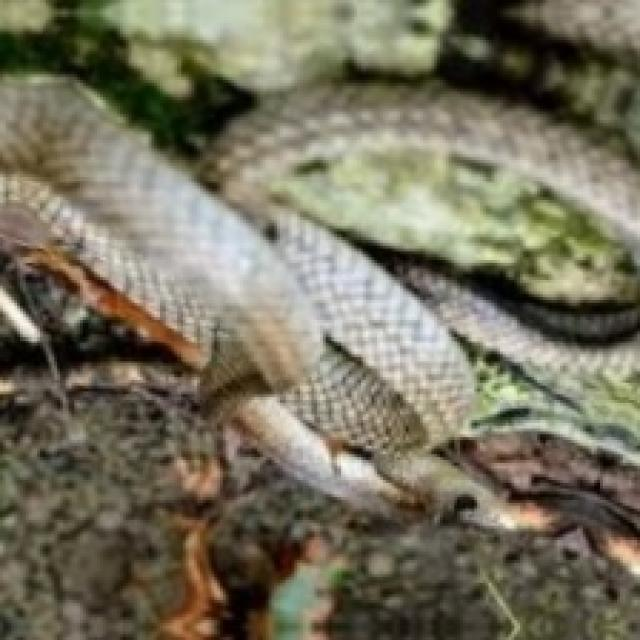smooth-scaled mountain rat snake: (0, 77, 640, 549)
